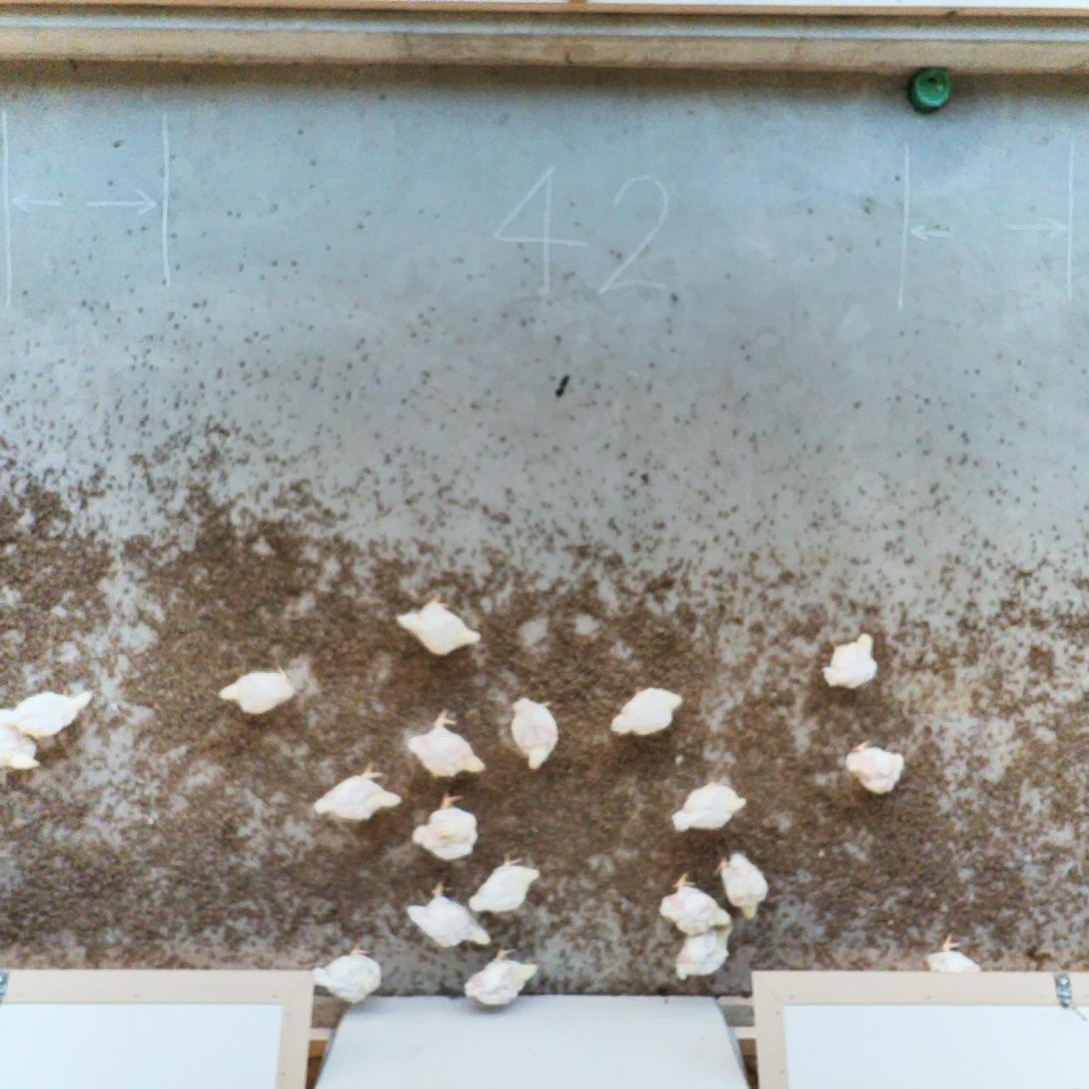chicken: (400, 881, 499, 952), (312, 757, 406, 826), (402, 704, 486, 780), (0, 675, 94, 742), (391, 594, 483, 657), (463, 943, 541, 1013), (411, 792, 487, 862), (659, 869, 736, 938), (213, 658, 299, 717), (467, 852, 544, 917), (305, 941, 386, 1002), (712, 842, 773, 921), (670, 777, 747, 837), (925, 929, 989, 1001), (608, 683, 684, 741), (506, 690, 559, 773), (669, 922, 740, 982), (842, 733, 906, 798), (821, 630, 882, 693), (0, 713, 42, 782)
